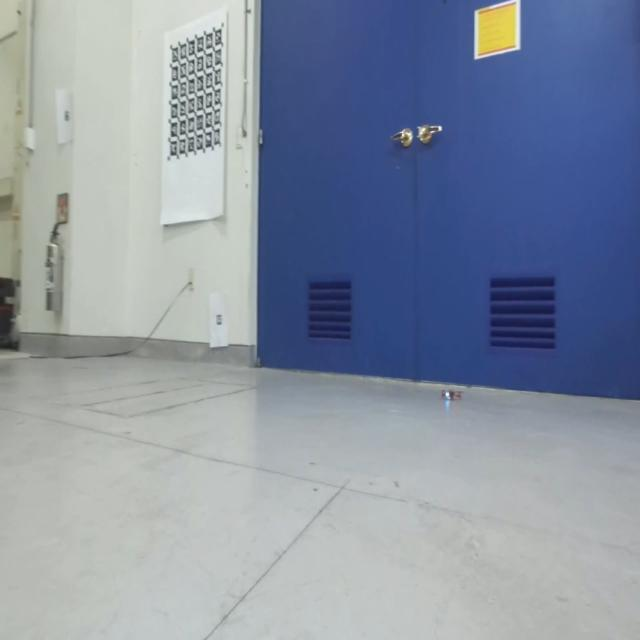crazyflie: (443, 379, 465, 402)
